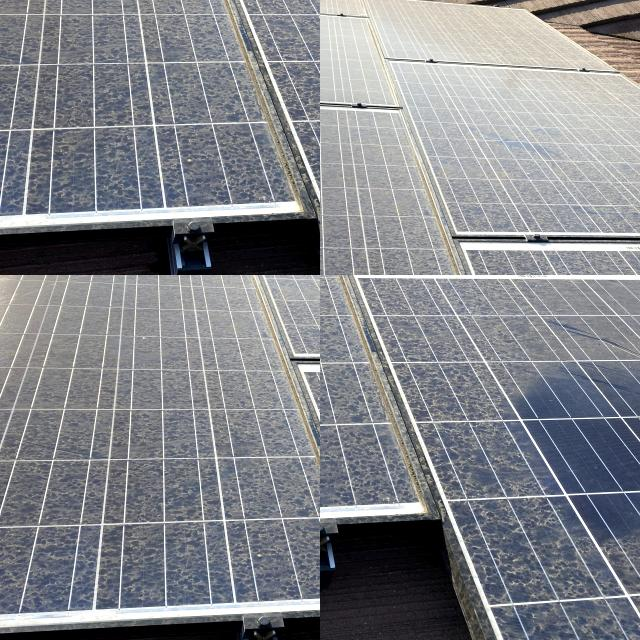bird: (38, 275, 61, 284), (12, 275, 42, 281), (64, 275, 85, 282), (25, 275, 54, 279), (6, 275, 28, 280), (94, 275, 111, 281), (0, 275, 17, 281), (92, 275, 112, 280), (58, 275, 80, 279), (9, 275, 25, 280), (36, 275, 55, 279), (57, 275, 74, 279), (0, 275, 15, 279), (0, 275, 12, 280), (0, 275, 11, 279)
dust: (362, 50, 610, 184), (352, 177, 640, 275), (364, 280, 512, 392), (320, 386, 440, 502), (320, 54, 433, 177), (505, 548, 640, 640), (354, 275, 521, 349), (320, 275, 444, 360), (386, 0, 562, 55), (538, 275, 640, 360), (320, 183, 407, 275), (448, 421, 518, 527), (320, 379, 386, 485), (320, 0, 397, 59), (320, 275, 409, 326), (530, 275, 616, 316), (320, 275, 356, 368), (320, 275, 373, 324), (320, 0, 640, 5), (320, 0, 344, 58), (0, 0, 12, 9), (0, 0, 11, 9), (0, 0, 10, 7), (0, 0, 4, 9), (0, 0, 3, 8), (0, 0, 8, 3)
